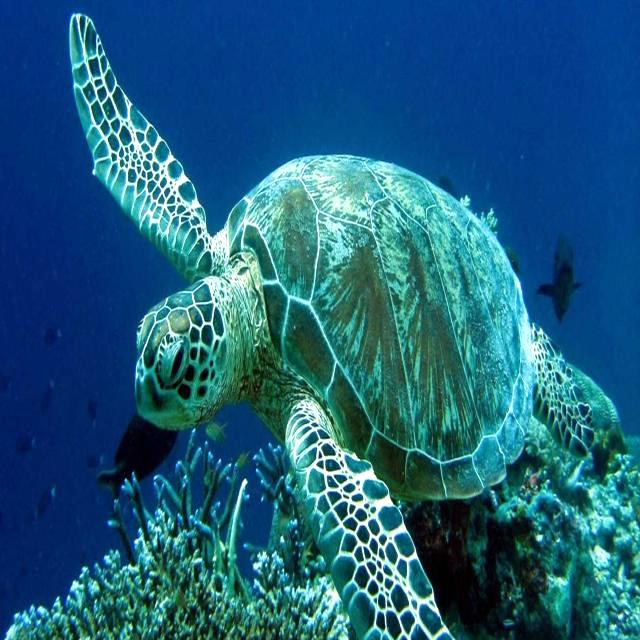Sea turtle: (67, 12, 621, 639)
